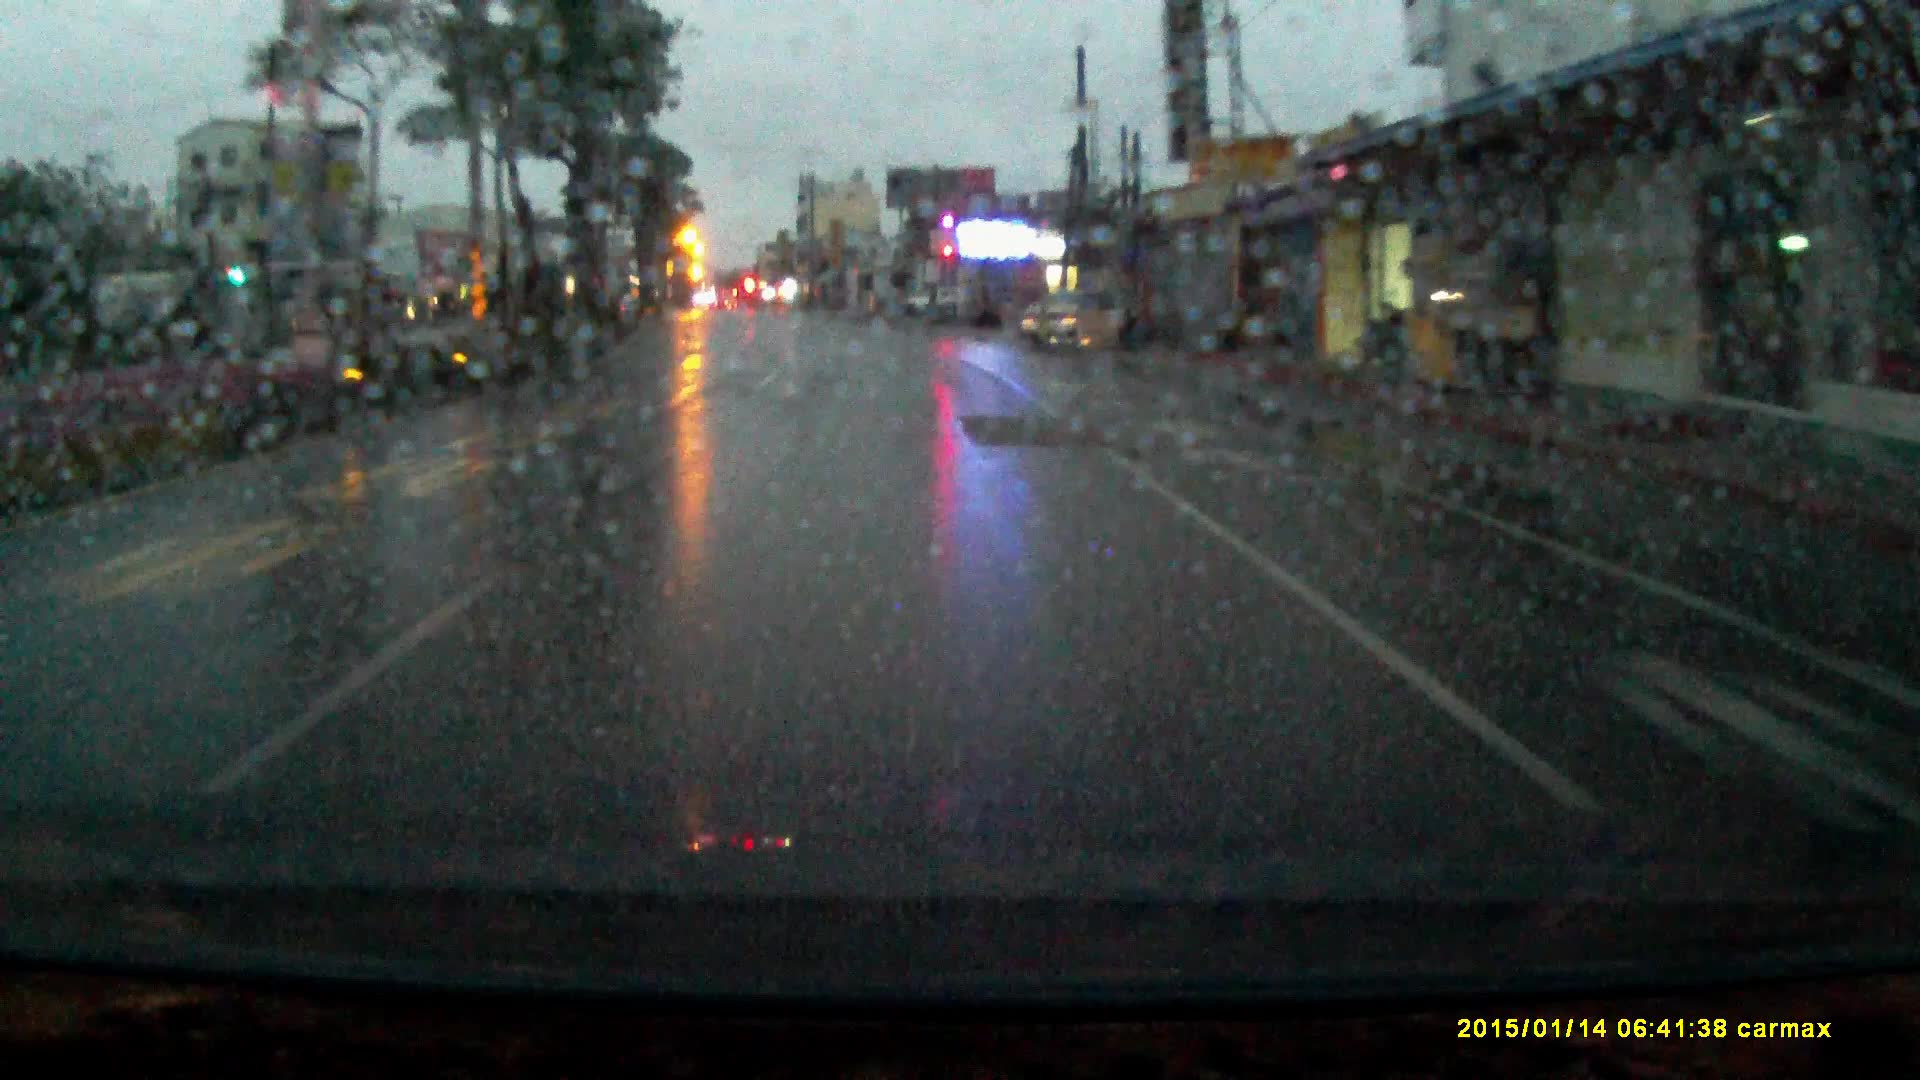vehicle: (1019, 285, 1127, 357), (903, 285, 957, 314)
